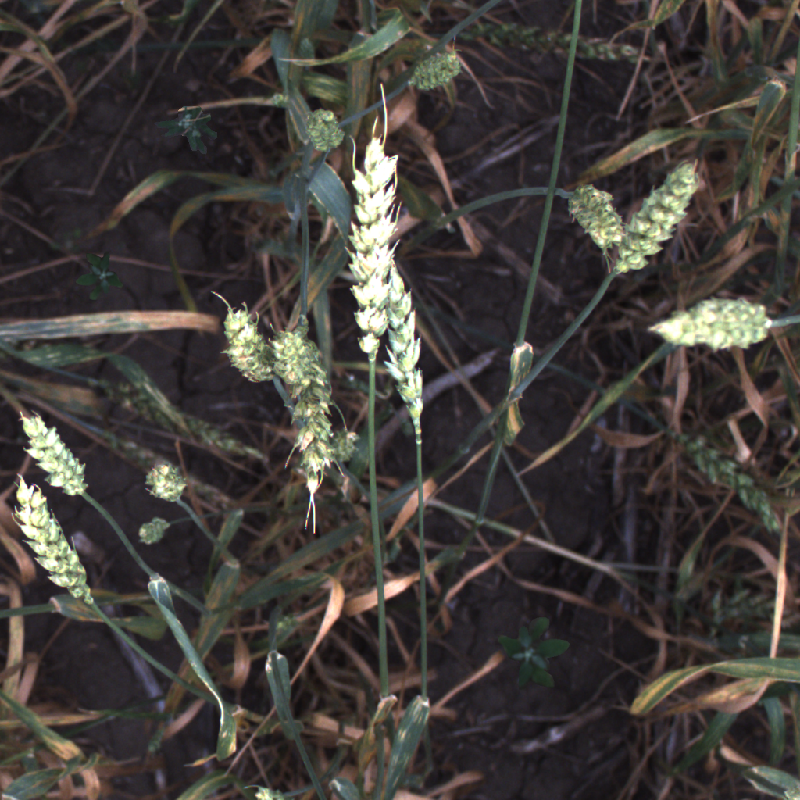spikelet: (345, 121, 399, 360), (671, 430, 785, 535), (7, 474, 89, 607), (613, 151, 699, 276), (272, 322, 332, 483), (14, 409, 92, 500), (485, 20, 646, 64), (382, 268, 425, 423), (649, 296, 767, 351), (566, 182, 627, 251), (221, 307, 272, 379), (139, 455, 192, 507), (406, 50, 460, 92), (306, 108, 344, 147), (134, 515, 172, 546), (331, 428, 361, 462)
weed: (498, 617, 570, 691), (152, 98, 223, 168), (76, 251, 123, 300)
